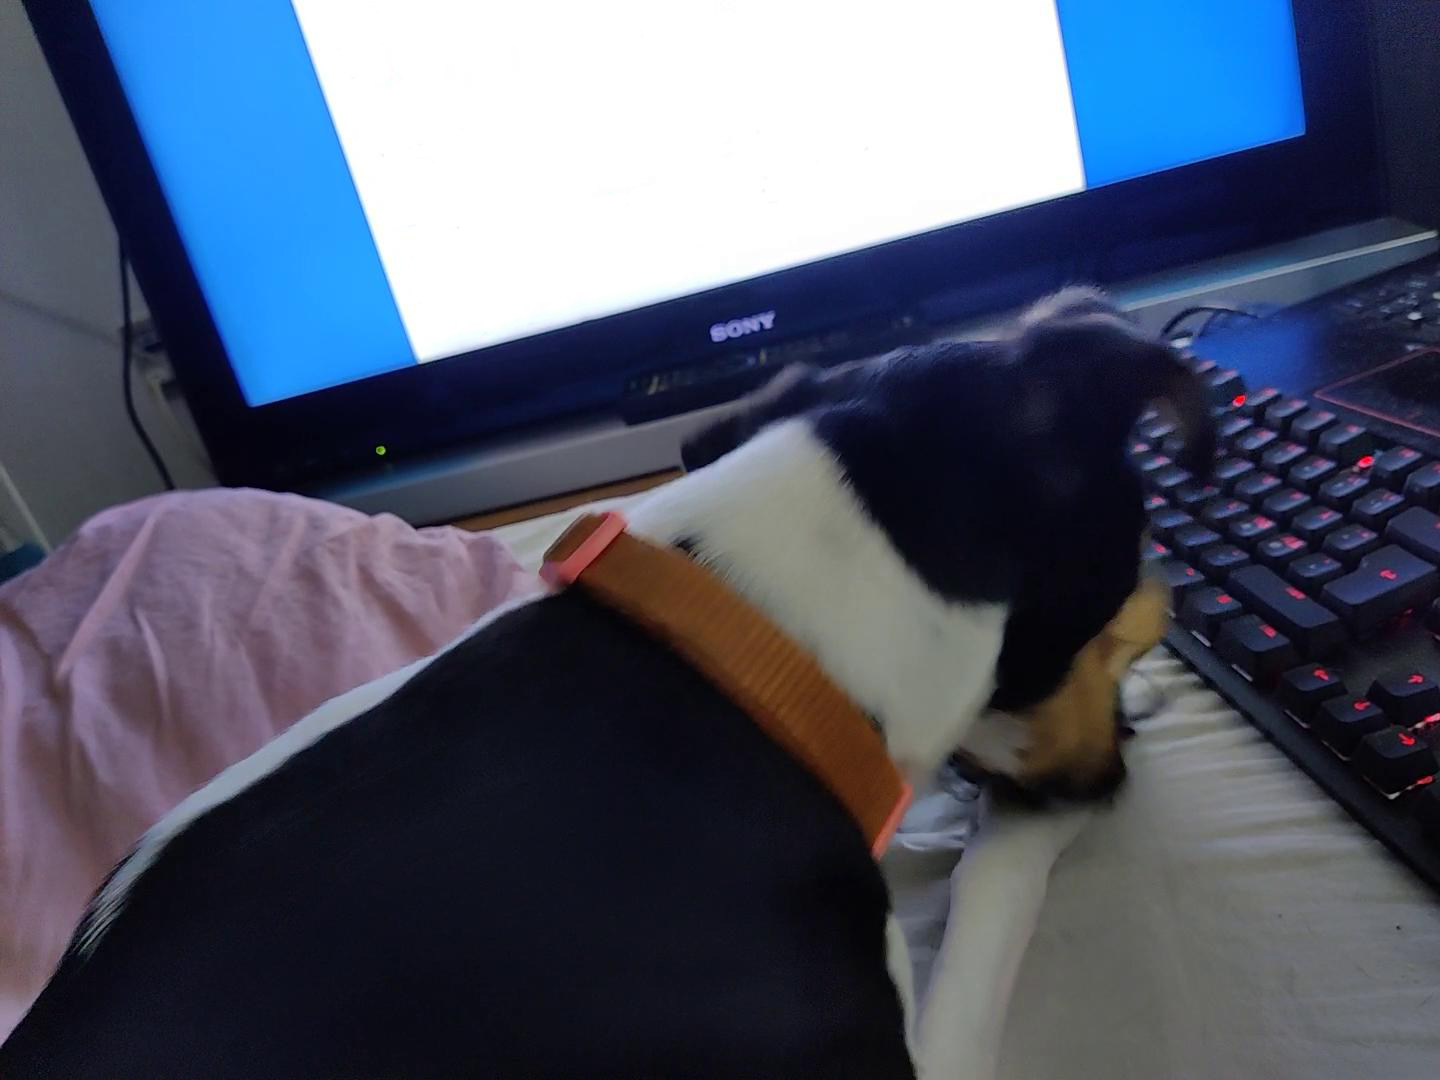Dog: (0, 284, 1228, 1079)
